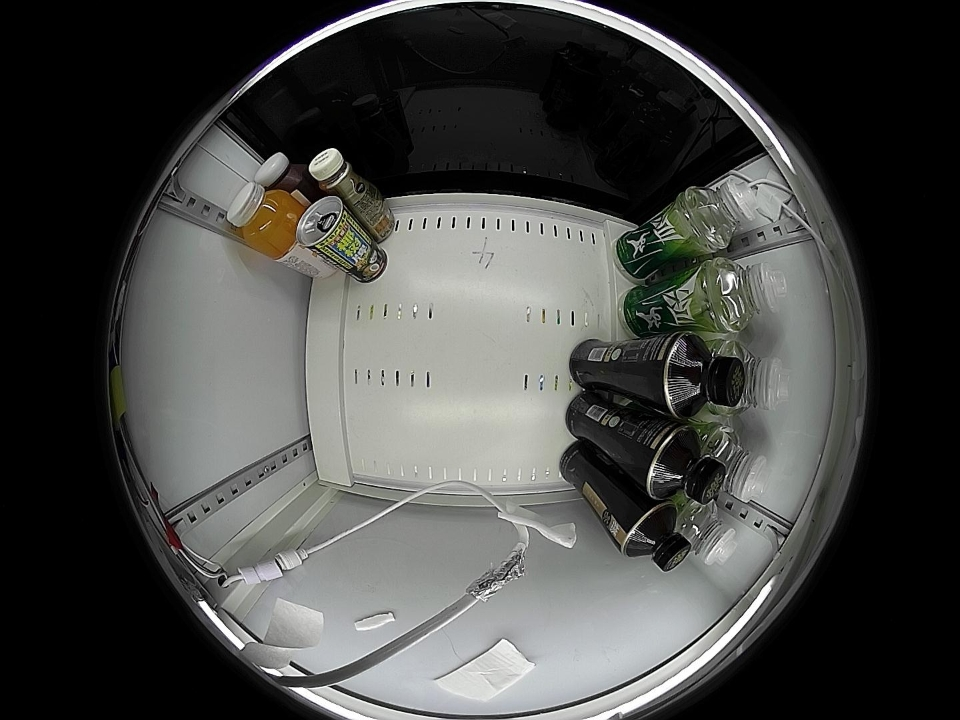jianjiao: (704, 258, 786, 333), (684, 176, 758, 252), (703, 424, 771, 503), (719, 340, 789, 416), (678, 500, 738, 566)
kafei: (308, 148, 367, 202)
rancha-1: (660, 333, 744, 420), (646, 423, 726, 505), (622, 502, 691, 572)
weic: (226, 184, 301, 258)
yezhi: (296, 195, 352, 255)
youyanggudong: (254, 153, 307, 197)
